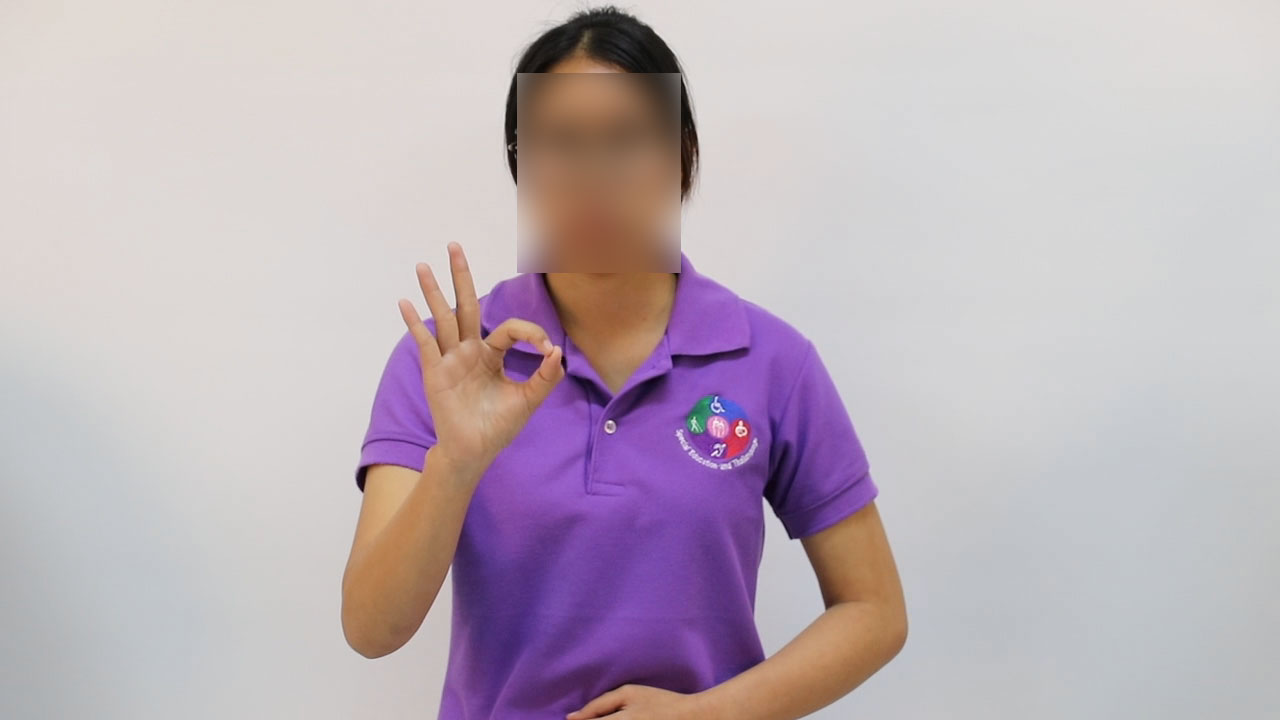for: (381, 231, 574, 475)
